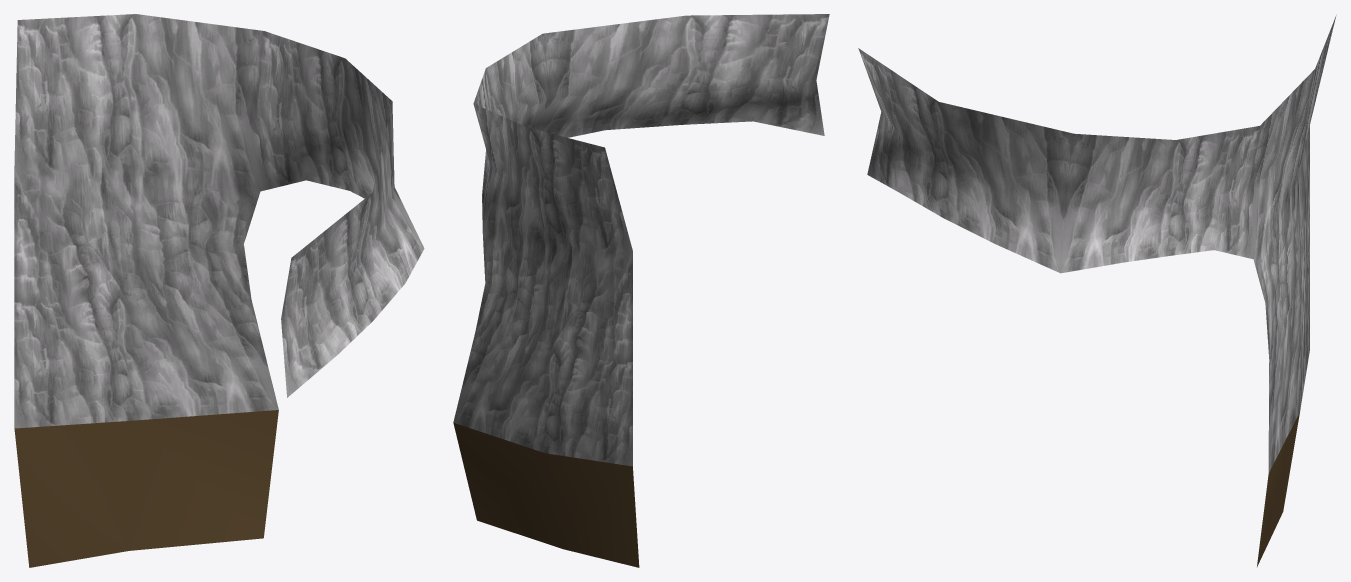
File: SWORDLIGHT20_PS-AREA03_05.fbx
The picture shows the model from 3 angles, left to right: view 1: azimuth 30°, elevation 25°; view 2: azimuth 150°, elevation 25°; view 3: azimuth 270°, elevation 25°; orthographic projection. The views are drawn at different scales.
Parts seen in each view (by area): view 1: SWORDLIGHT20_PS-AREA03_05; view 2: SWORDLIGHT20_PS-AREA03_05; view 3: SWORDLIGHT20_PS-AREA03_05.
Boxes of the visible parts, <box> form: SWORDLIGHT20_PS-AREA03_05: <box>14,14,424,567</box>; SWORDLIGHT20_PS-AREA03_05: <box>453,14,829,567</box>; SWORDLIGHT20_PS-AREA03_05: <box>858,15,1336,566</box>.
Size of the model in its own units: 84404 by 160757 by 148900.
3 materials, 3 textured.
